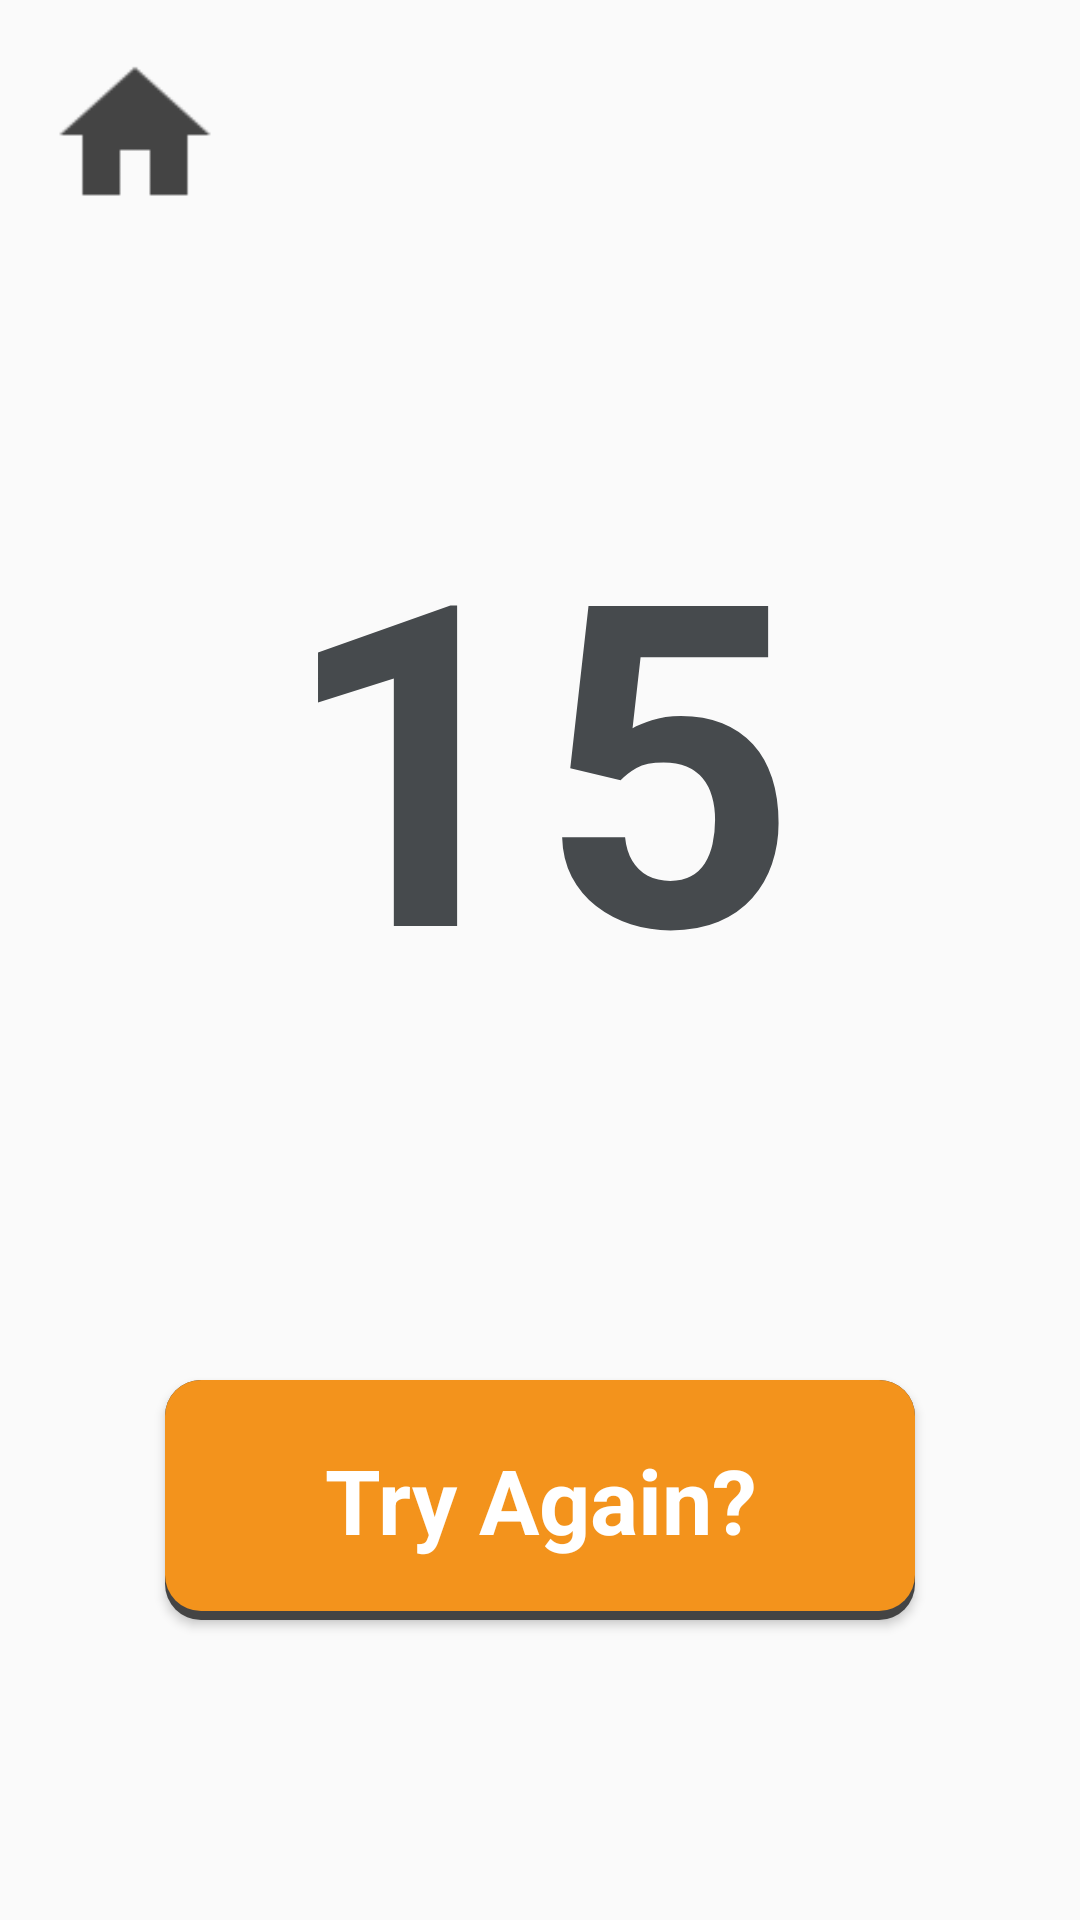

Where icons sit on this 1080*1920 app screen, as [x1, y1, x2, y2]:
home: [60, 67, 210, 196]
